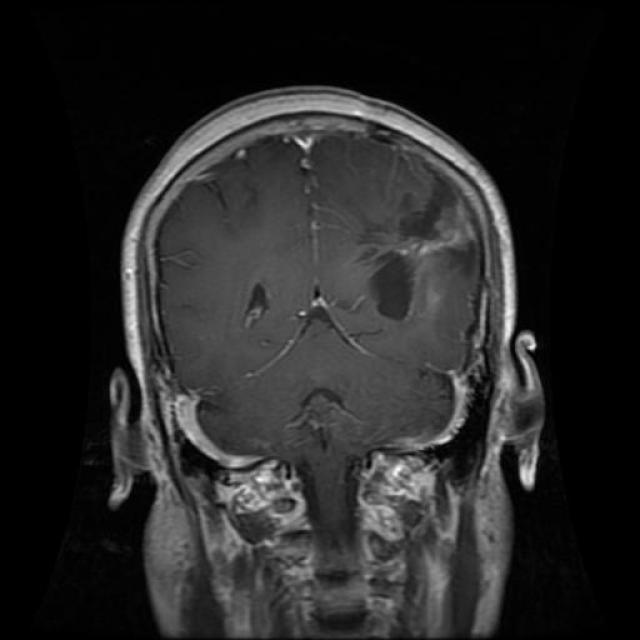glioma: (356, 230, 435, 330)
